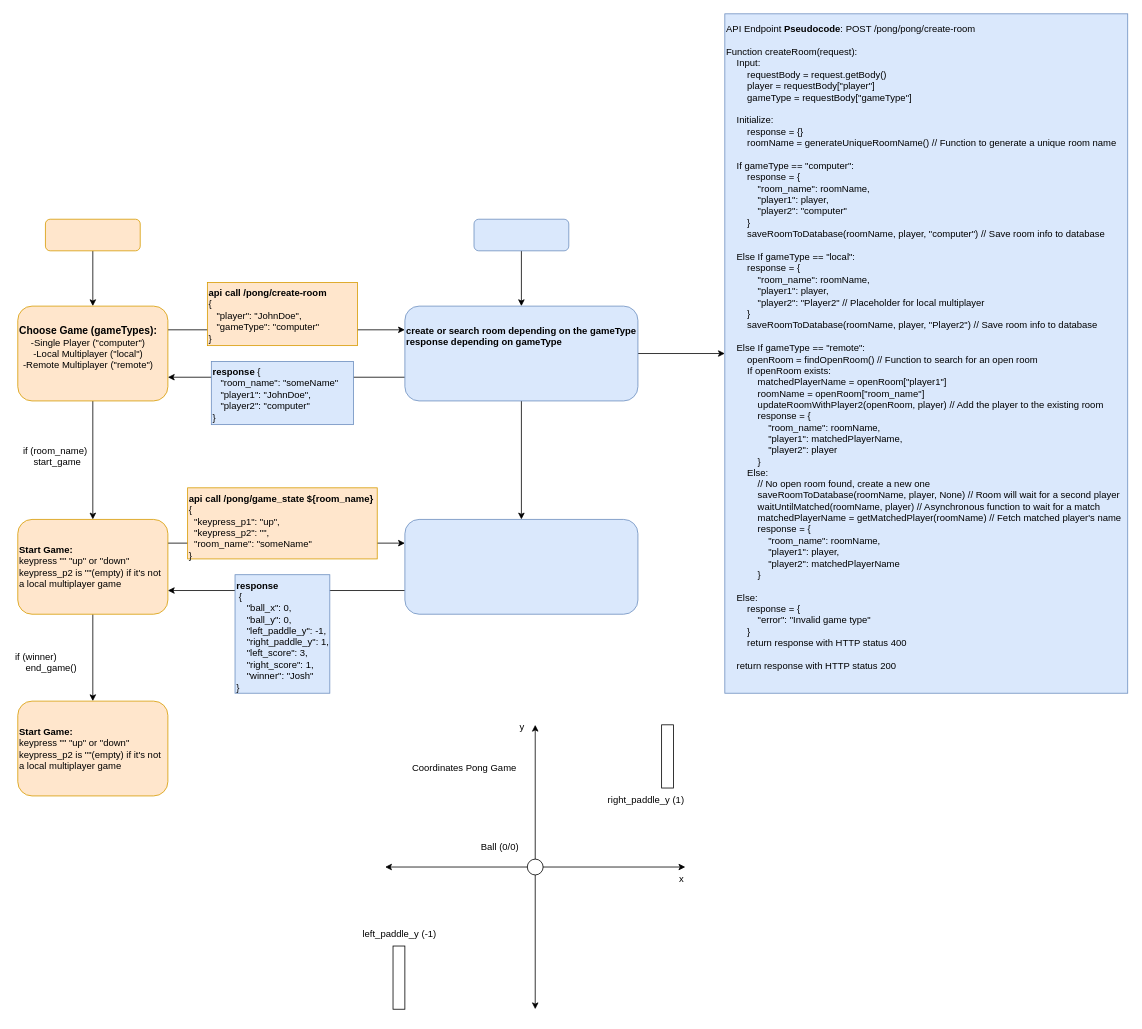
Some shapes in this 1142 by 1029 pixel diagram are drawn without their labels. Here are the shapes that lost their labels. From the top down, the box of each, then its label:
(45, 218, 140, 251): Client
(473, 218, 569, 251): Server
(404, 519, 638, 614): calculate next frame : set winner only after finishing the game
